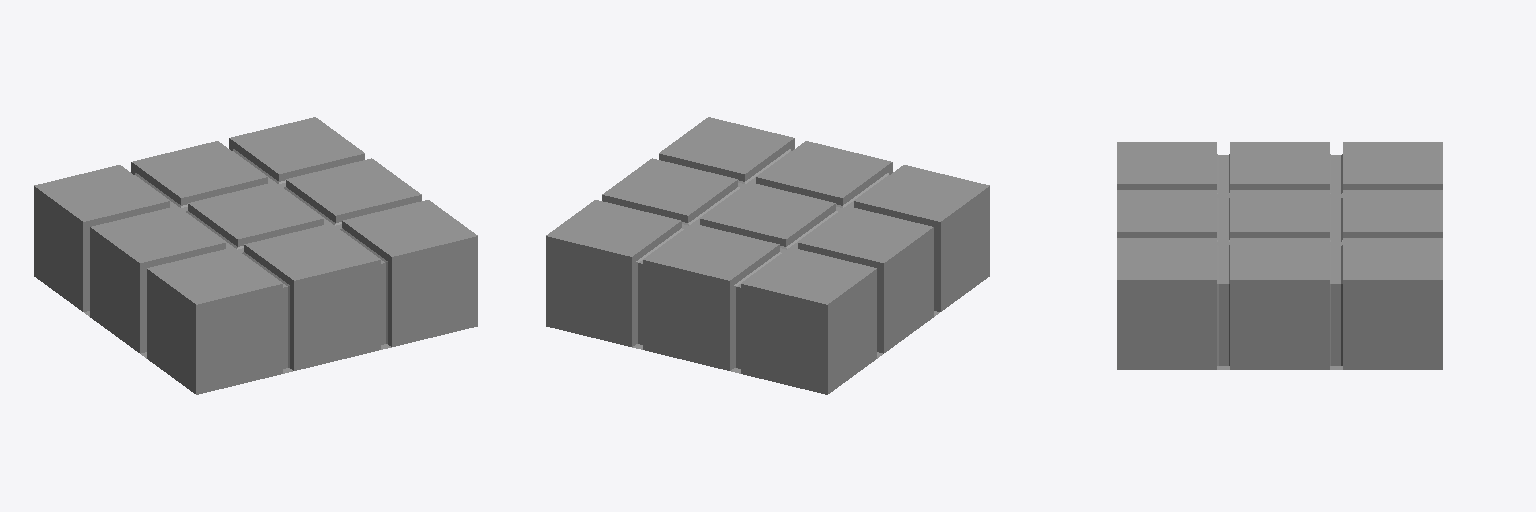
File: workshop.obj
3 renders of one model, left to right at view 1: azimuth 30°, elevation 25°; view 2: azimuth 150°, elevation 25°; view 3: azimuth 270°, elevation 25°, orthographic.
Visible parts, largest first — view 1: workshop_Plane; view 2: workshop_Plane; view 3: workshop_Plane.
Boxes of the visible parts, box(x1,y1,x2,y2) form: workshop_Plane: box(34, 117, 477, 394); workshop_Plane: box(546, 117, 989, 394); workshop_Plane: box(1117, 142, 1442, 369).
Size of the model in its own units: 9.8 by 3 by 9.8.